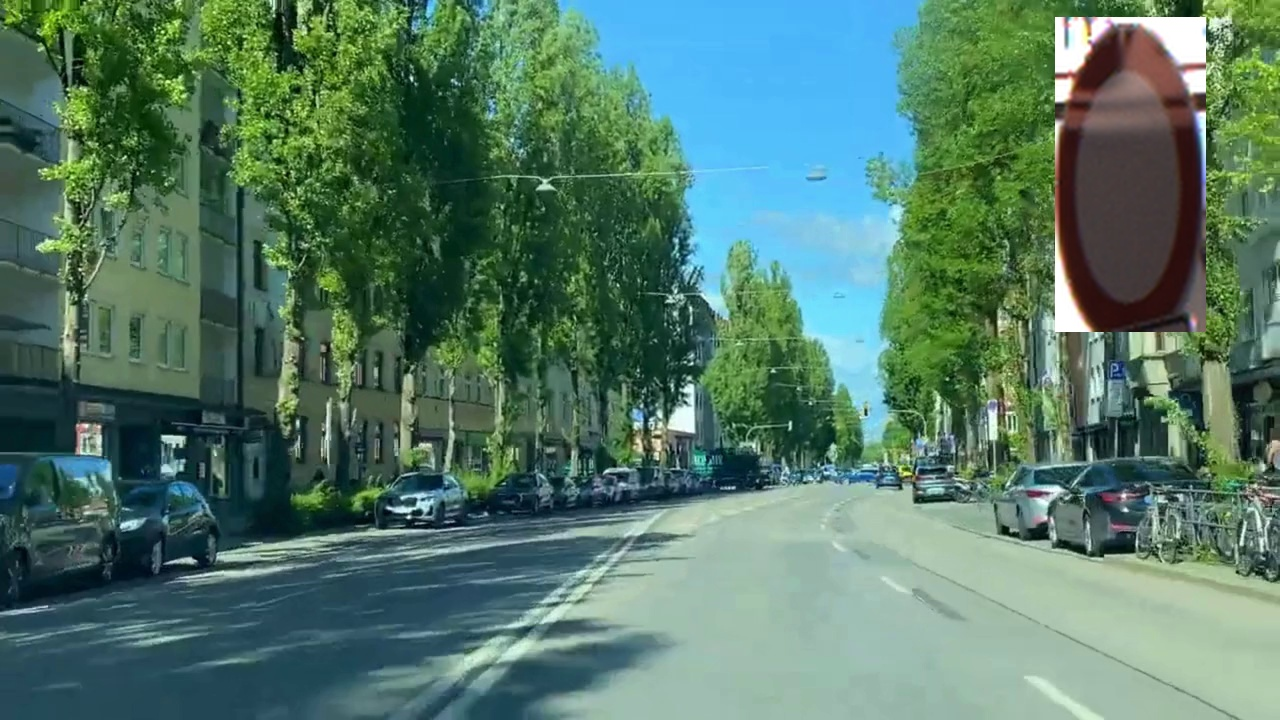No vehicles: (1055, 17, 1206, 332)
